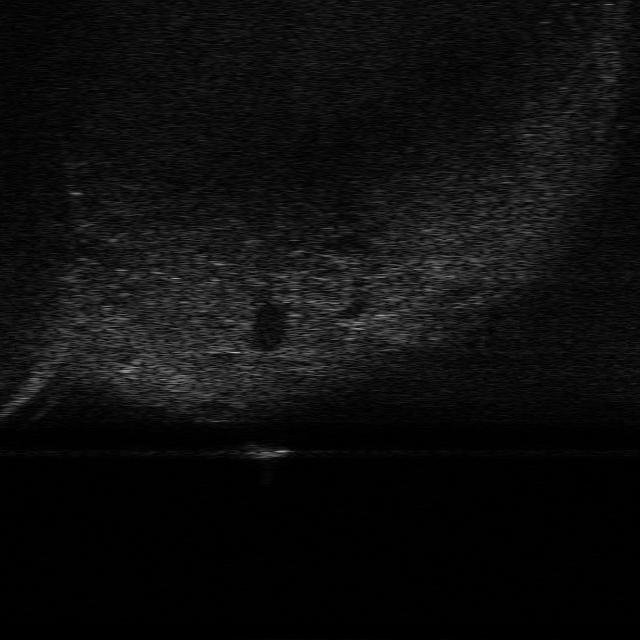cube: (229, 441, 291, 462)
